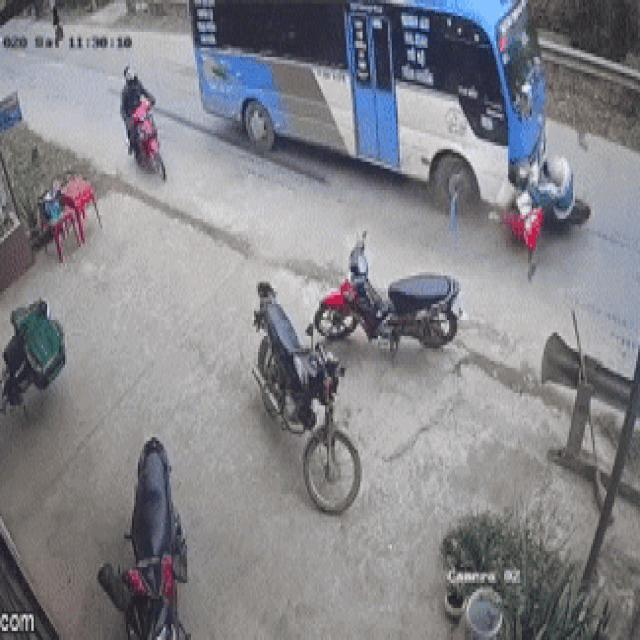multiple_accident: (187, 0, 593, 286)
